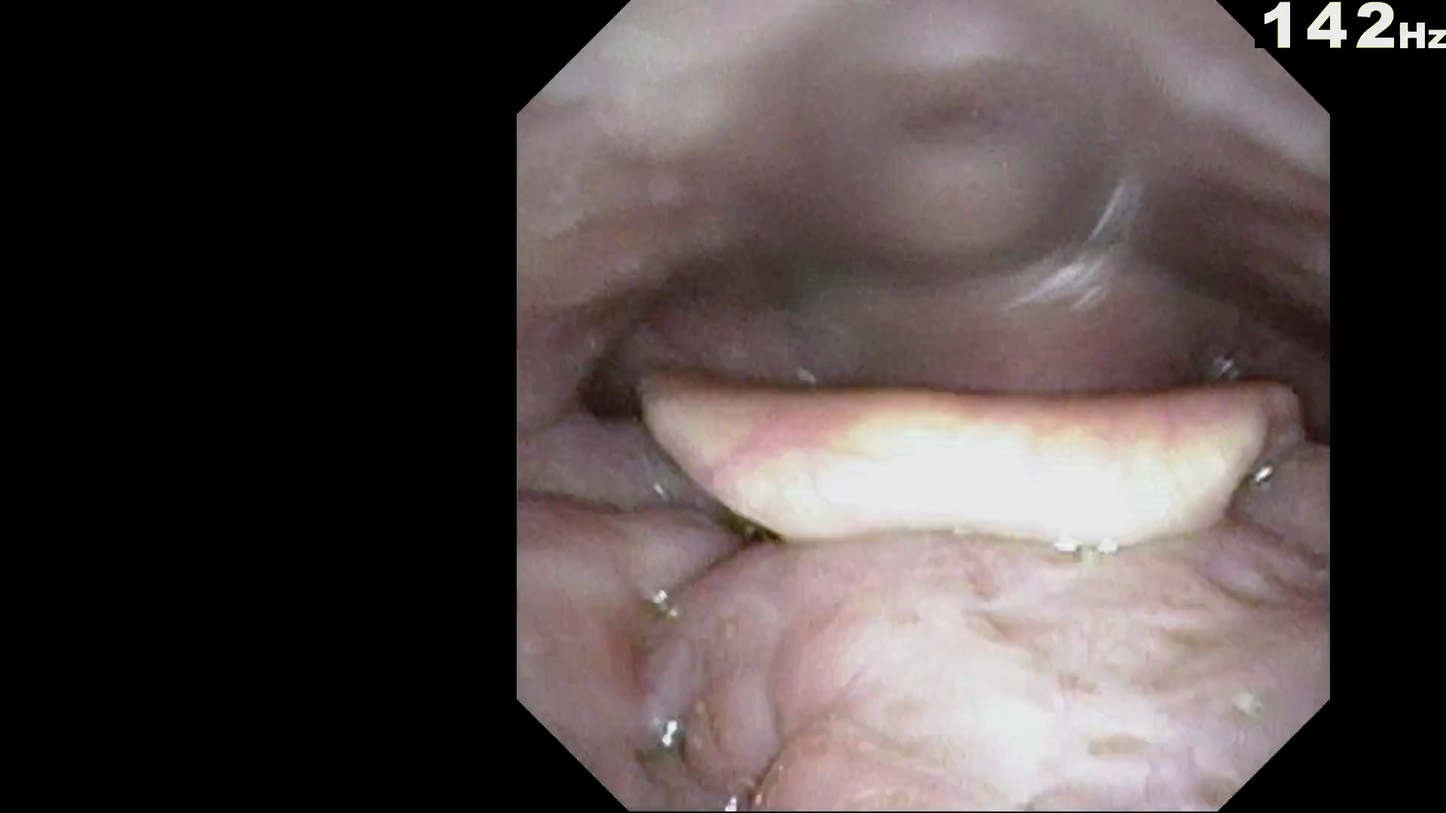epiglottis: (653, 387, 1268, 612)
